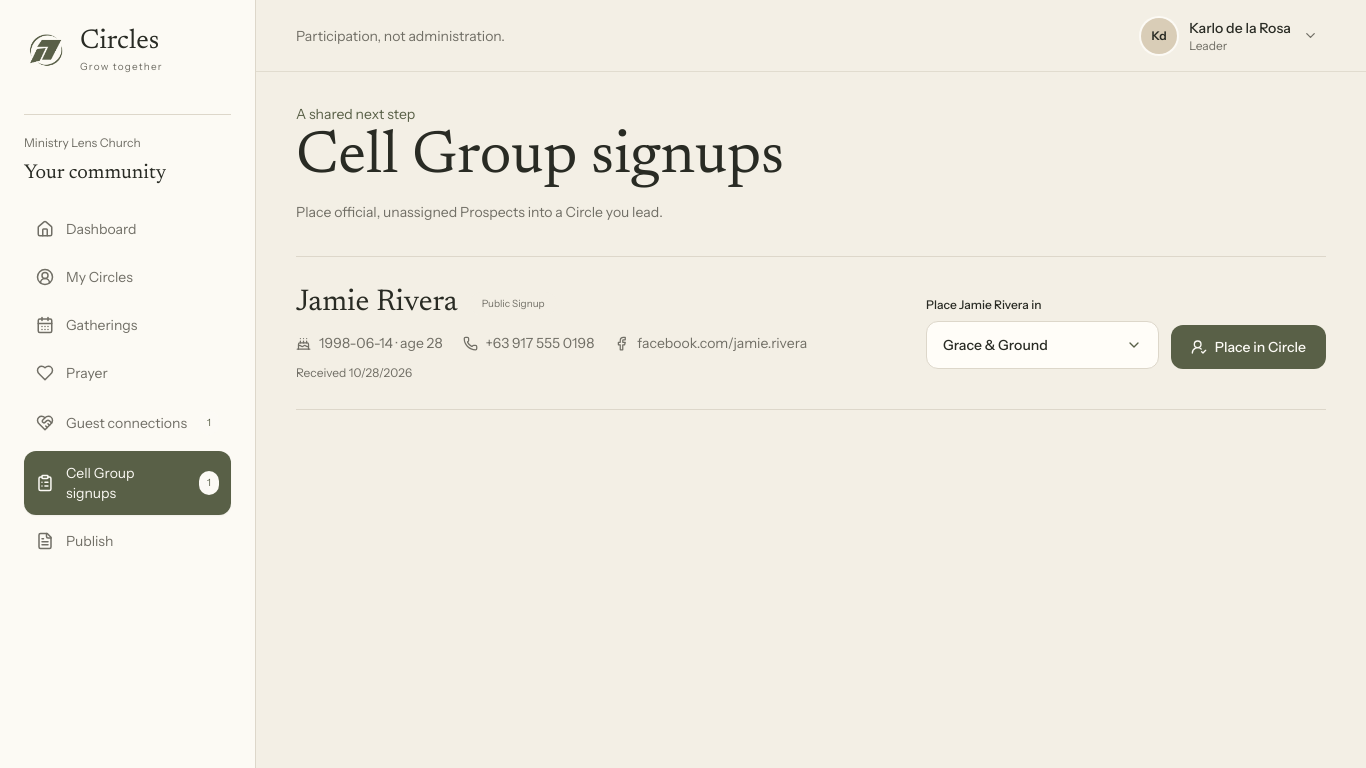
Test: Circles MVP › gives leaders a separate official signup placement queue
Expected: the heading "Cell Group signups" is shown, [296,128,784,188]
Expected: the heading "Jamie Rivera" is shown, [296,285,458,321]
Click the button "Place in Circle". click: x=1248, y=347
box: [1171,325,1326,369]
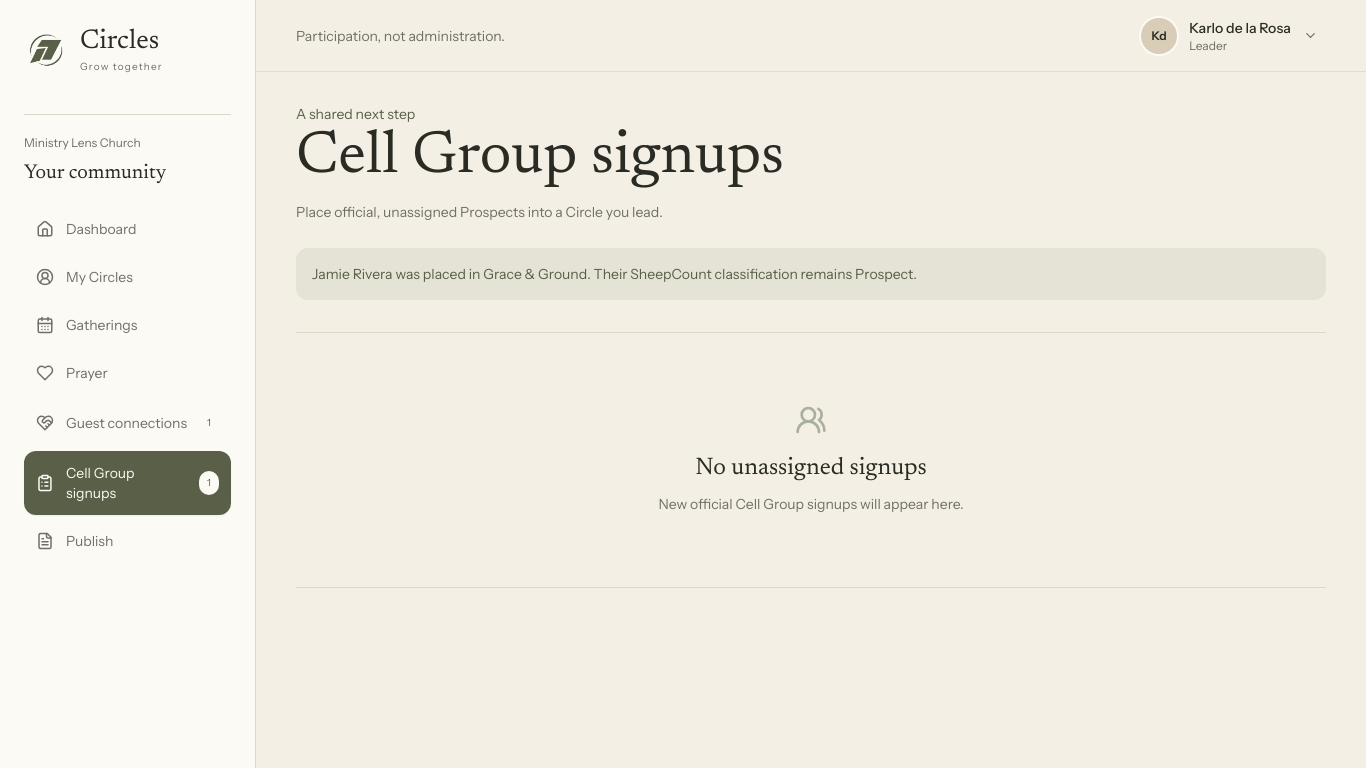
Result: the text "was placed in Grace & Ground" is shown at [312,265,917,283]
